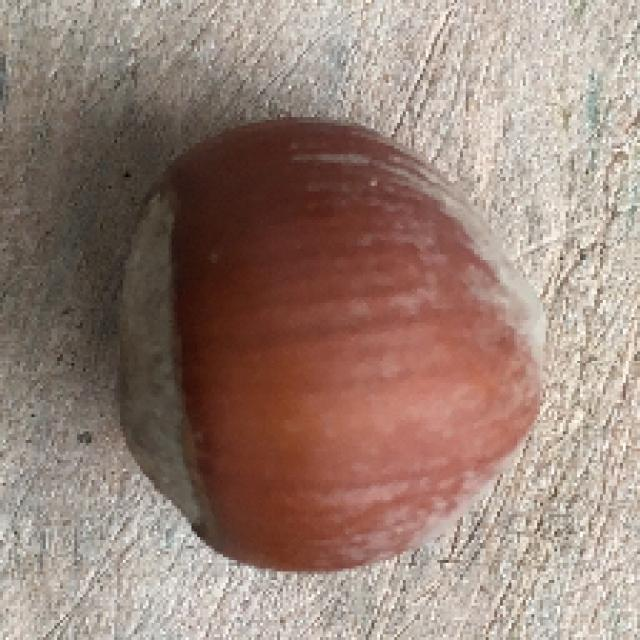qualityHazelnut: (104, 116, 554, 574)
